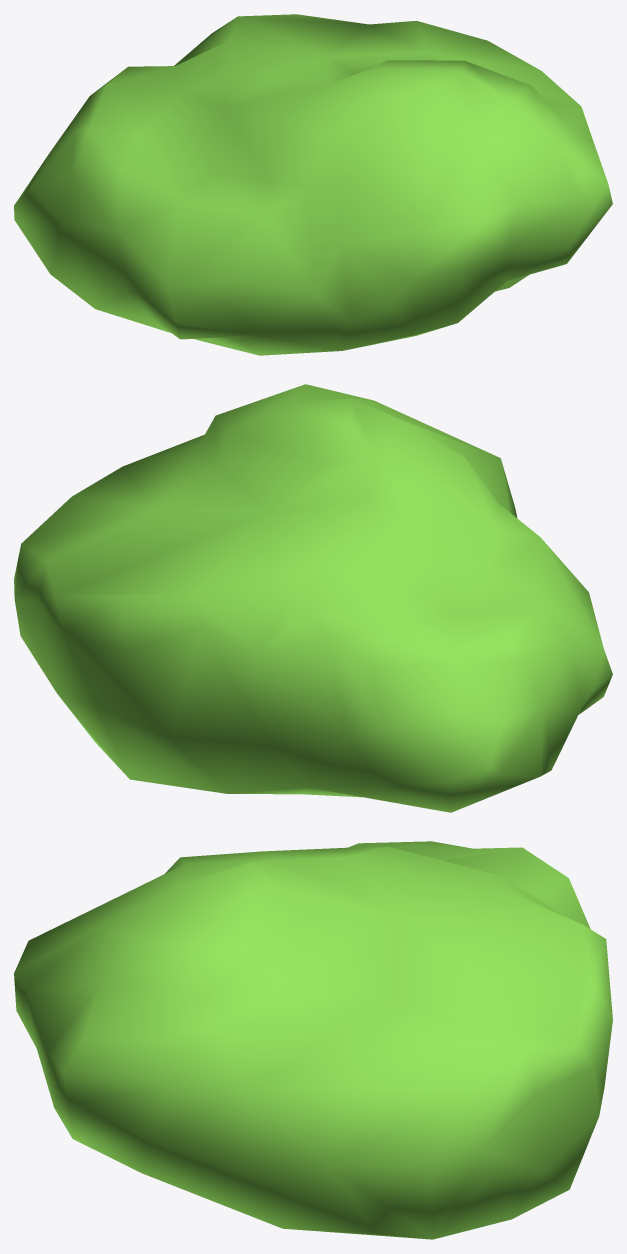
The model's file is rock_06.FBX.
The picture shows the model from 3 angles, top to bottom: view 1: azimuth 30°, elevation 25°; view 2: azimuth 150°, elevation 25°; view 3: azimuth 270°, elevation 25°; orthographic projection. The views are drawn at different scales.
Parts seen in each view (by area): view 1: rock_06; view 2: rock_06; view 3: rock_06.
Part boxes in pixels (x1,y1,x2,y2): rock_06: (14, 14, 612, 355); rock_06: (14, 384, 612, 812); rock_06: (14, 841, 612, 1239).
Bounding box in the file's own units: 133 × 67.08 × 120.
